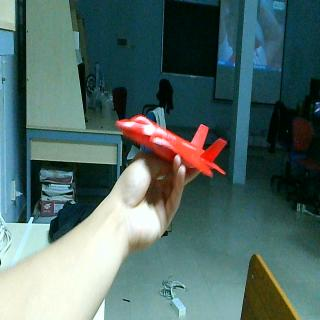Jet: (114, 113, 227, 179)
